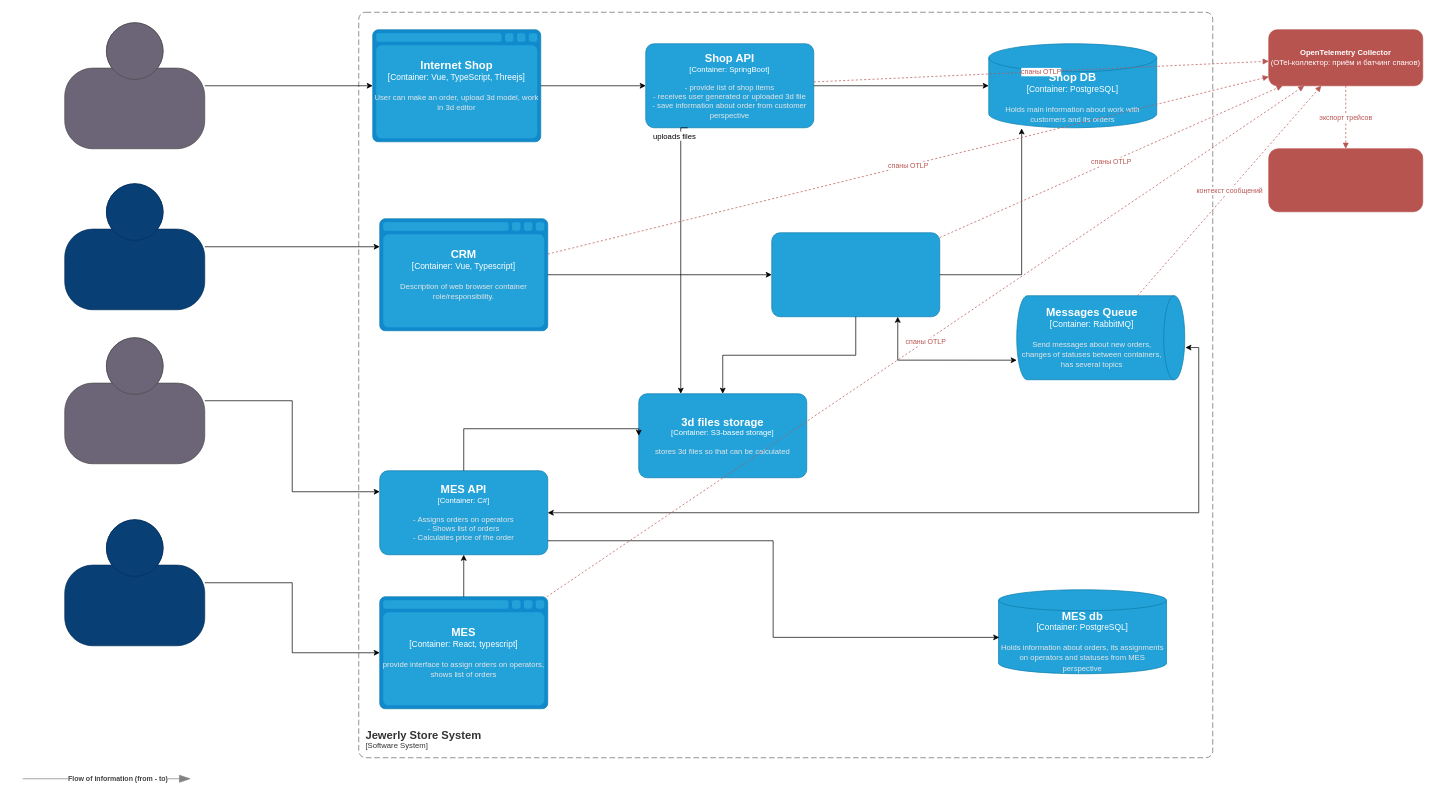
The diagram is 1435 pixels wide and 802 high, and some of its shapes have lost their labels. Here are the shapes that lost their labels. From the top down, the centre of each, then its label:
At (x=134, y=85): "Customer [Person] Description of external person.".
At (x=1345, y=180): "Jaeger (Jaeger: хранение трейсов + Jaeger-UI)".
At (x=134, y=246): "Seller [Person] Operates with order, confirms manufacturing for the user".
At (x=855, y=274): "CRM API [Container: SpringBoot] Description of container role/responsibility.".
At (x=134, y=400): "API user [Person] Description of external person.".
At (x=134, y=582): "Operator [Person] Takes order in work, manufactures jewerly".
